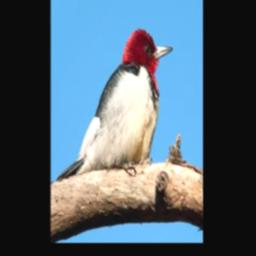Woodpecker: (56, 28, 173, 181)
